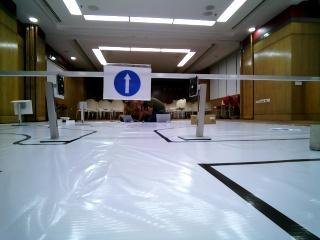straight: (103, 62, 152, 98)
